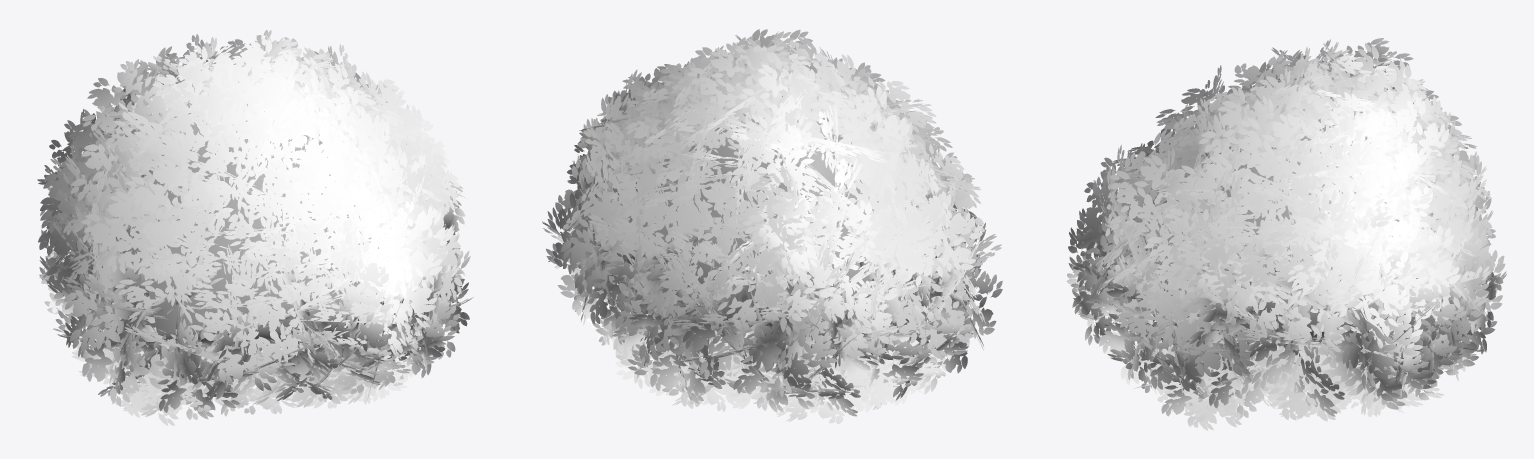
The model's file is TreeTopCards.fbx.
3 views of the same model, side by side, from view 1: azimuth 30°, elevation 25°; view 2: azimuth 150°, elevation 25°; view 3: azimuth 270°, elevation 25° (orthographic).
Parts seen in each view (by area): view 1: LOD2_copy2.264, LOD2_copy2.002; view 2: LOD2_copy2.264, LOD2_copy2.002; view 3: LOD2_copy2.264, LOD2_copy2.002.
Part boxes in pixels (x1,y1,x2,y2): LOD2_copy2.264: [37, 30, 473, 425]; LOD2_copy2.002: [111, 104, 384, 353]; LOD2_copy2.264: [542, 29, 1002, 424]; LOD2_copy2.002: [621, 108, 932, 354]; LOD2_copy2.264: [1066, 38, 1506, 430]; LOD2_copy2.002: [1144, 109, 1423, 353].
Size of the model in its own units: 720 by 608 by 714.
